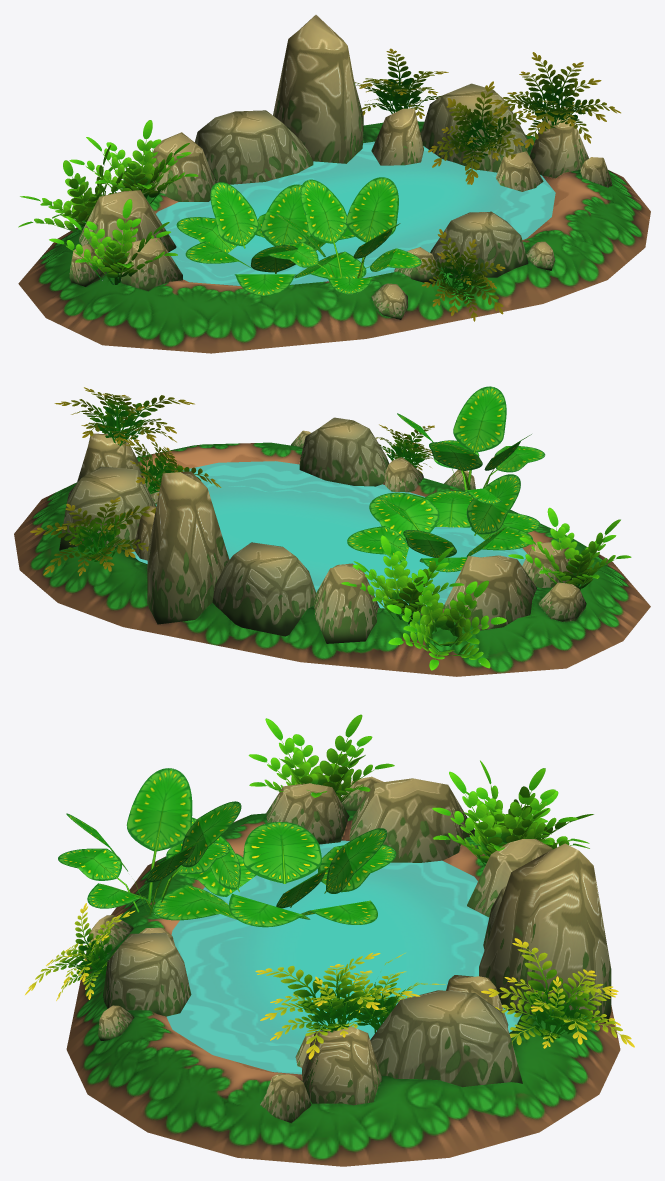
Rendered from Village_Pond.FBX.
The picture shows the model from 3 angles, top to bottom: view 1: azimuth 30°, elevation 25°; view 2: azimuth 150°, elevation 25°; view 3: azimuth 270°, elevation 25°; orthographic projection. The views are drawn at different scales.
Visible parts, largest first — view 1: Village_Pond, Line1497; view 2: Village_Pond, Line1497; view 3: Village_Pond, Line1497.
Part boxes in pixels (x1,y1,x2,y2): Village_Pond: (18,15,650,353); Line1497: (354,48,620,321); Village_Pond: (14,386,650,676); Line1497: (30,387,434,576); Village_Pond: (58,714,620,1166); Line1497: (25,903,634,1059).
Size of the model in its own units: 387 by 101 by 293.
